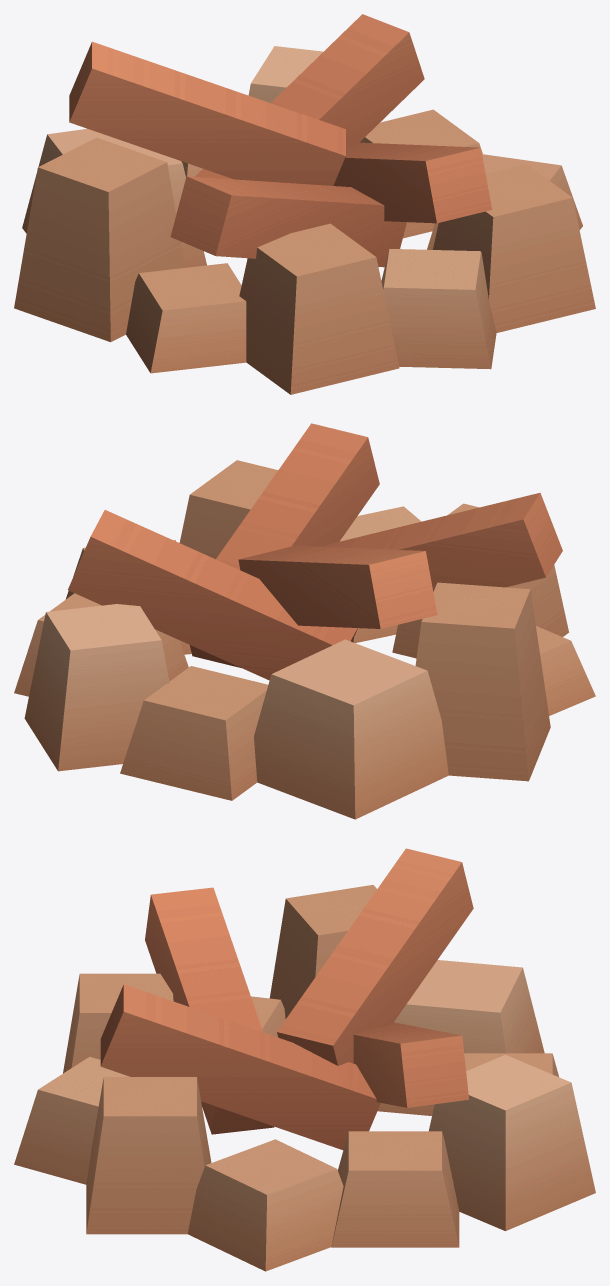
The model's file is campfire-pit.glb.
3 views of the same model, one above another, from view 1: azimuth 30°, elevation 25°; view 2: azimuth 150°, elevation 25°; view 3: azimuth 270°, elevation 25° (orthographic). The views are drawn at different scales.
Parts seen in each view (by area): view 1: campfire-pit, campfire-pit.001; view 2: campfire-pit, campfire-pit.001; view 3: campfire-pit, campfire-pit.001.
Boxes of the visible parts, x1,y1,x2,y2 form: campfire-pit: (14, 46, 595, 394); campfire-pit.001: (69, 14, 491, 267); campfire-pit: (14, 460, 595, 819); campfire-pit.001: (68, 423, 562, 680); campfire-pit: (14, 885, 595, 1271); campfire-pit.001: (100, 848, 473, 1149).
Size of the model in its own units: 1.4 by 0.5497 by 1.36.
Materials: 1 (1 with a texture image).
